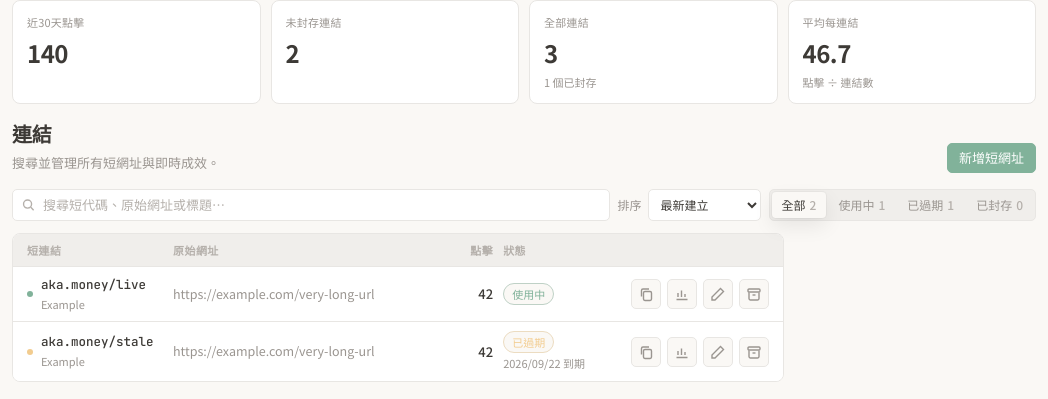
Test: DashboardView › does not count an expired-but-unarchived link as 使用中
Click the tab with test id "status-tab" showing "使用中1" at (862, 204), box top-left (828, 192), bottom-right (895, 218)
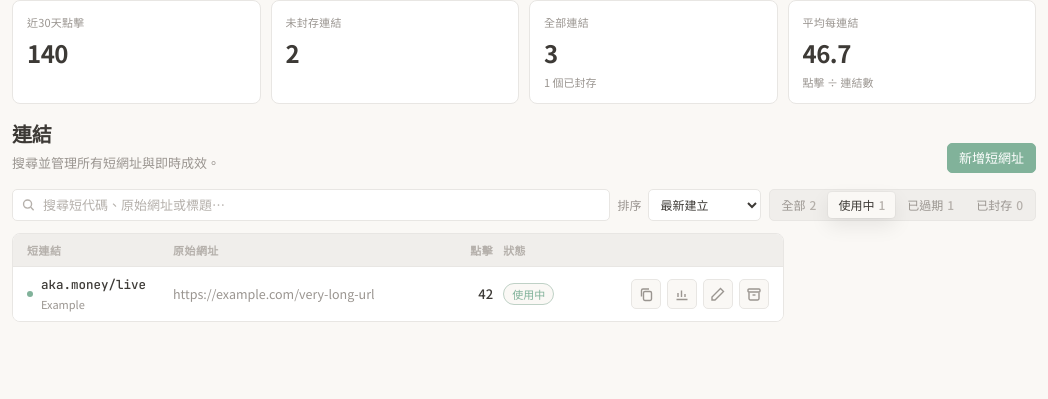
Expected: the text "live" is shown, top-left (41, 276), bottom-right (146, 295)
Expected: the number of rows is 1, top-left (13, 267), bottom-right (783, 321)
Expected: the text "aka.money/stale" is gone
